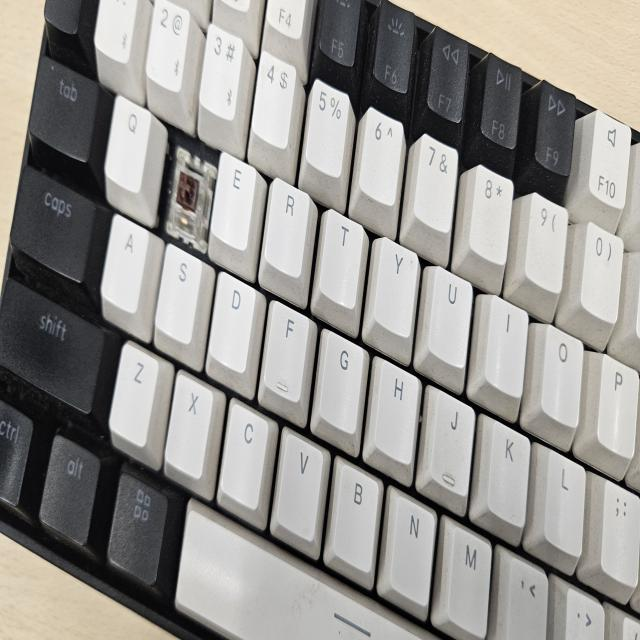C: (174, 150, 202, 232), (173, 158, 194, 220)
